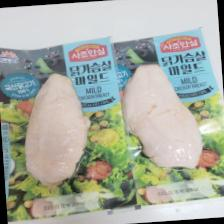chicken: (119, 61, 204, 174), (18, 70, 94, 185)
